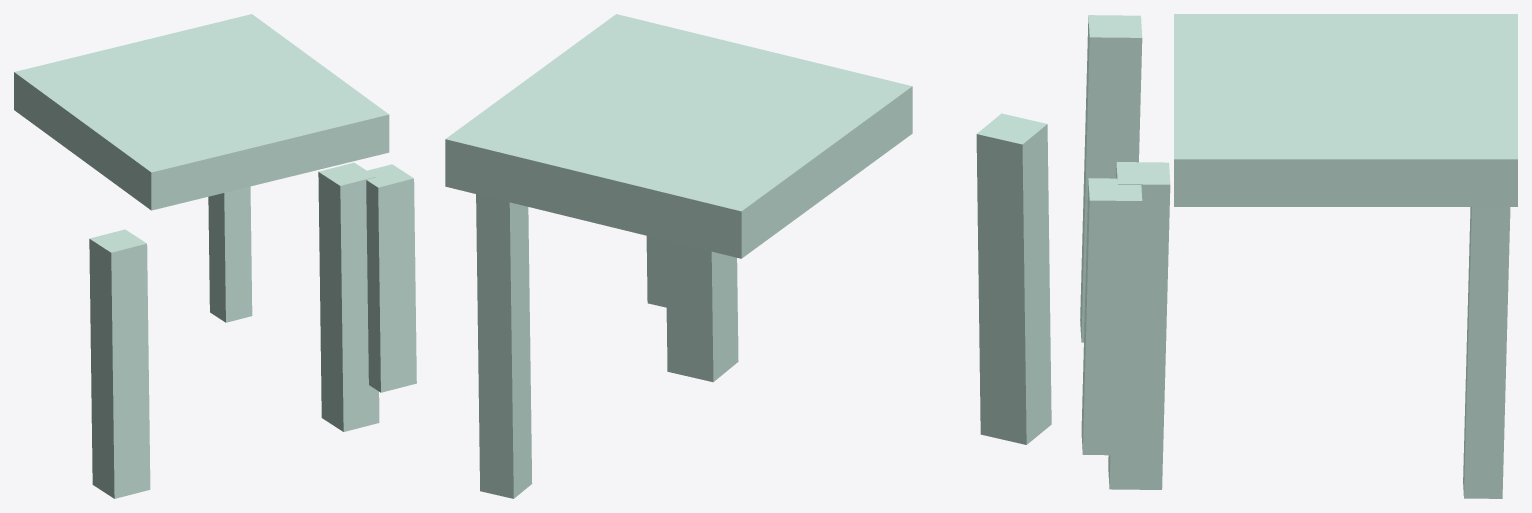
The picture shows the model from 3 angles, left to right: view 1: azimuth 30°, elevation 25°; view 2: azimuth 150°, elevation 25°; view 3: azimuth 270°, elevation 25°; orthographic projection. The views are drawn at different scales.
Visible parts, largest first — view 1: Renderer Node; view 2: Renderer Node; view 3: Renderer Node.
Boxes of the visible parts, bbox=[...] form: Renderer Node: bbox=[14, 14, 416, 498]; Renderer Node: bbox=[445, 14, 1051, 498]; Renderer Node: bbox=[1080, 14, 1517, 498].
Bounding box in the file's own units: 1.01 × 0.867 × 0.9743.
